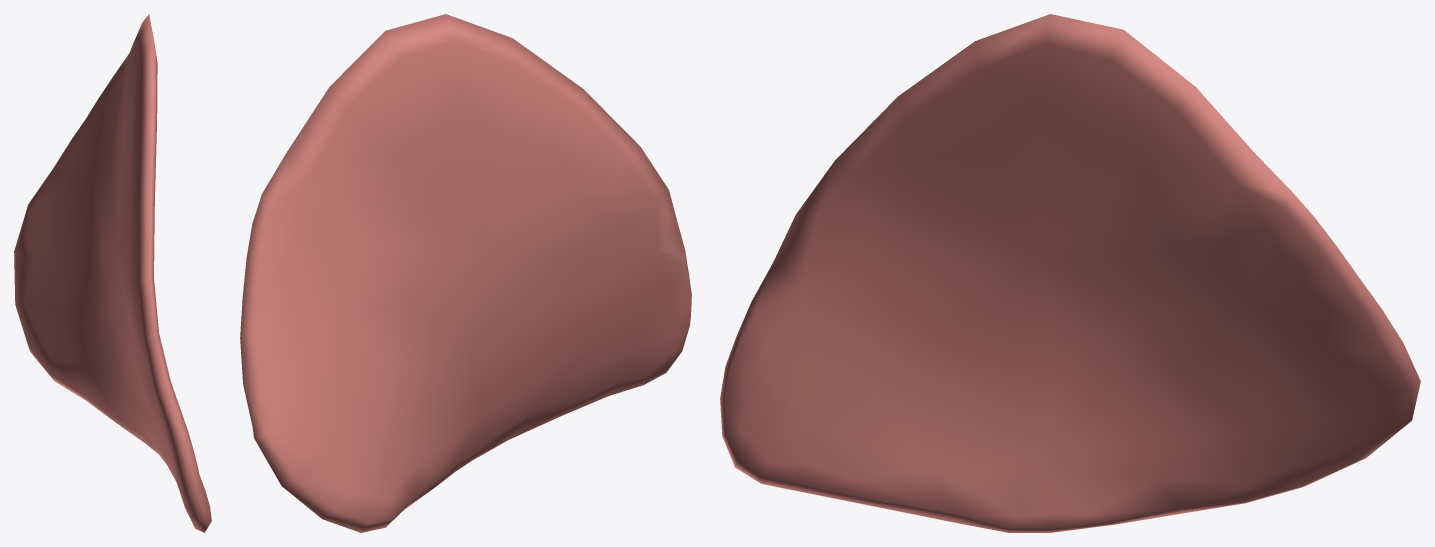
3 views of the same model, side by side, from view 1: azimuth 30°, elevation 25°; view 2: azimuth 150°, elevation 25°; view 3: azimuth 270°, elevation 25° (orthographic). The views are drawn at different scales.
Parts seen in each view (by area): view 1: ZA_4723bf6f98f02ecc; view 2: ZA_4723bf6f98f02ecc; view 3: ZA_4723bf6f98f02ecc.
Part boxes in pixels (bbox=[...]): ZA_4723bf6f98f02ecc: bbox=[14, 14, 211, 532]; ZA_4723bf6f98f02ecc: bbox=[240, 14, 691, 532]; ZA_4723bf6f98f02ecc: bbox=[720, 14, 1420, 532].
Bounding box in the file's own units: 0.00408 × 0.00939 × 0.0115.
